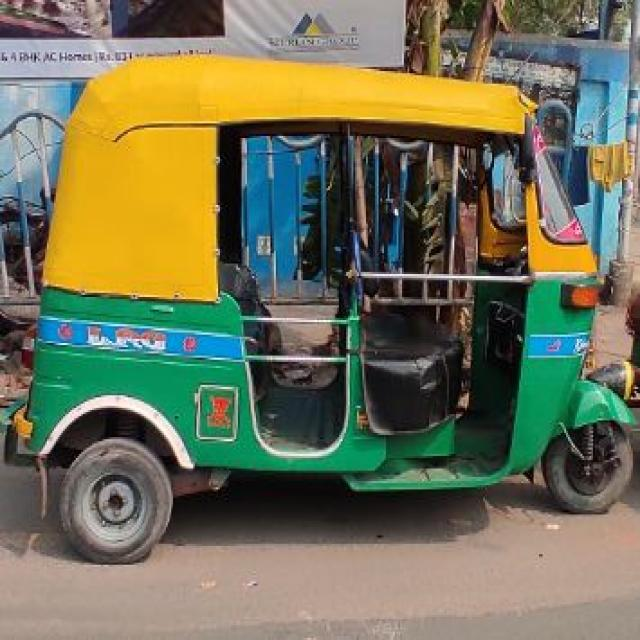autorickshaw: (13, 48, 636, 567)
